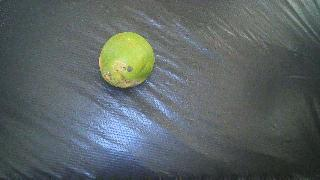DESECHO: (99, 32, 155, 88)
